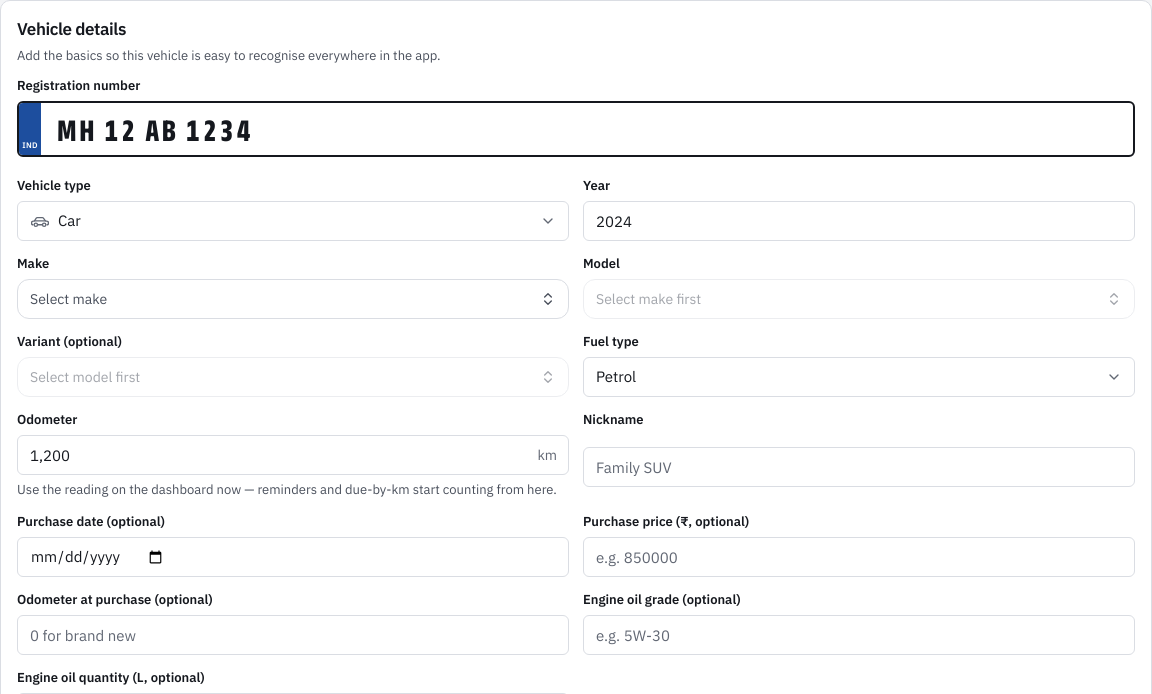
VehicleForm catalog pickers › lists makes from both Car and SUV
Click the dropdown labelled "Select make": (69, 299) 17,279 -> 569,319
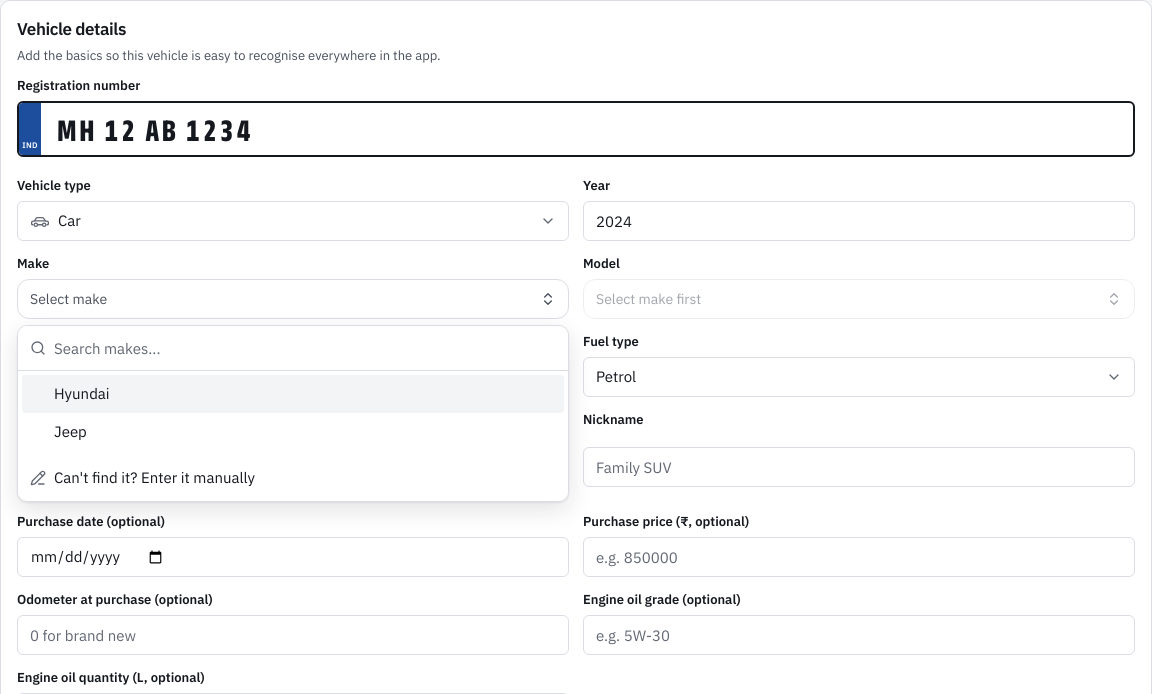
Now the option "Jeep" is shown, box 54,422 -> 87,441
Now the number of options "Hyundai" is 1, box 22,375 -> 564,413
